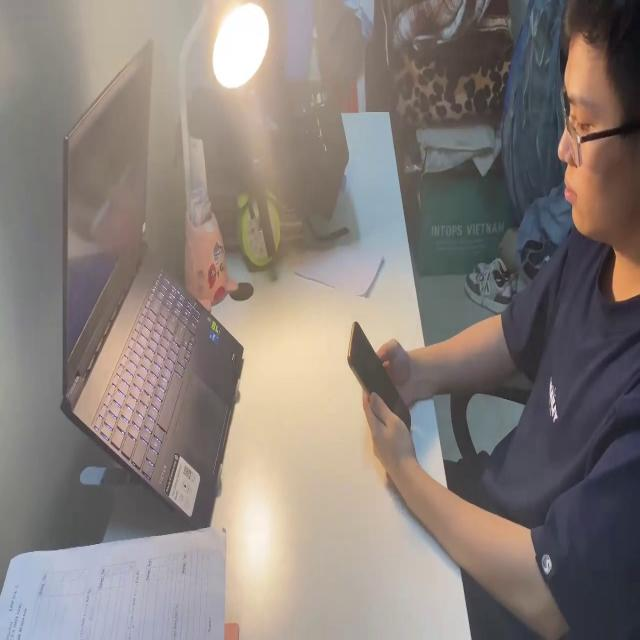book: (3, 529, 230, 640), (288, 239, 389, 305)
laptop: (54, 31, 246, 529)
phone: (344, 315, 415, 434)
student: (360, 0, 640, 640)
